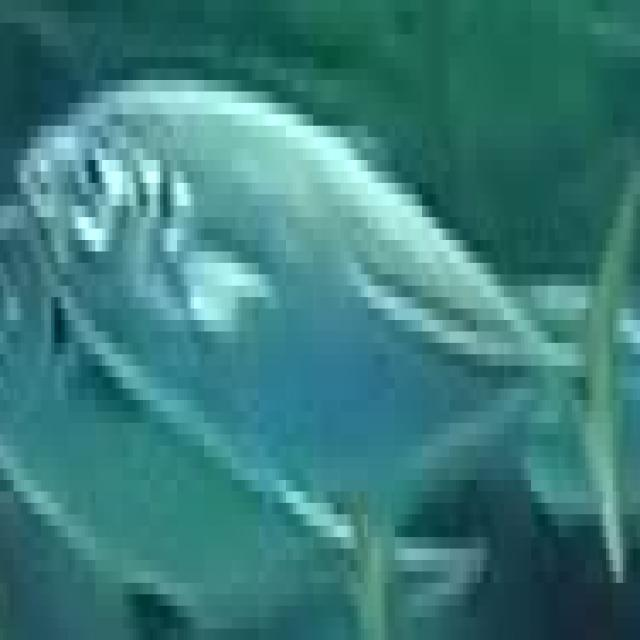fish: (3, 11, 640, 640)
